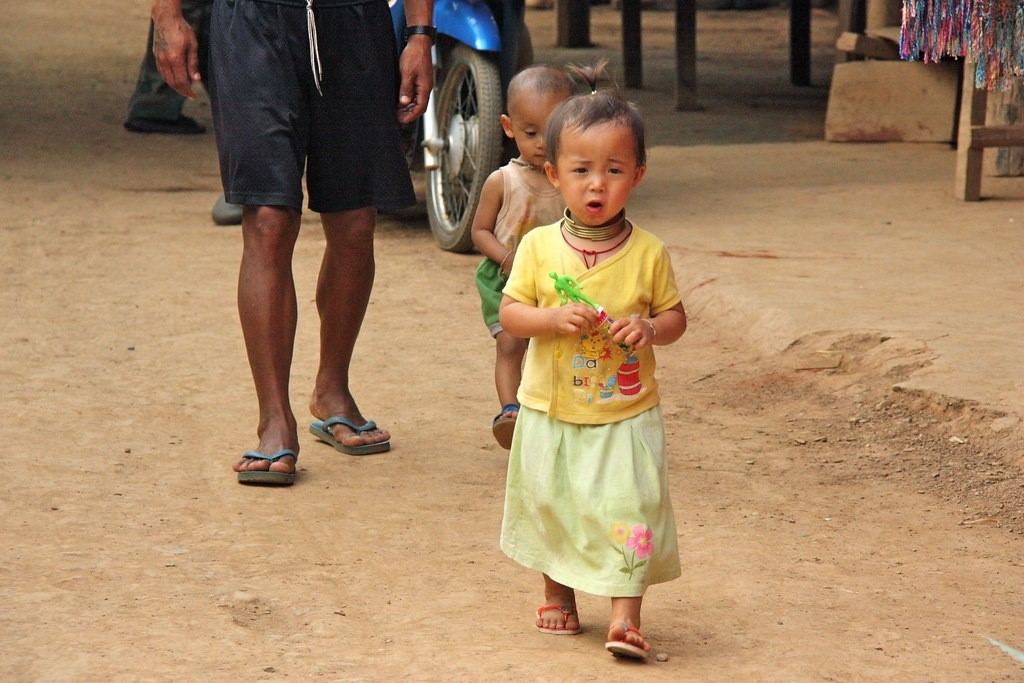face_no_mask: (541, 93, 645, 227), (502, 68, 573, 167)
